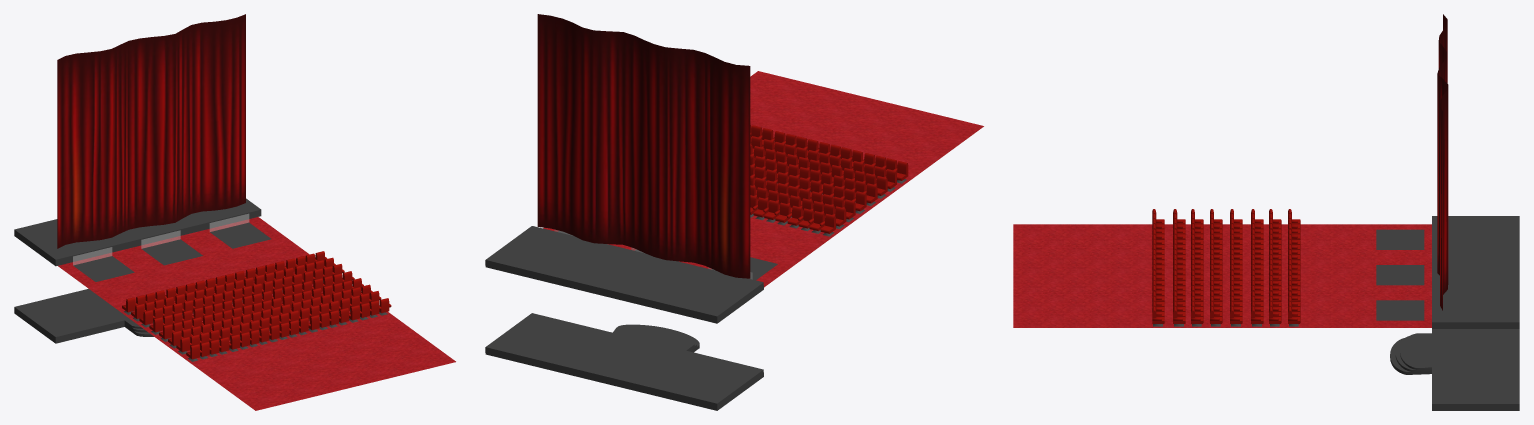
File: world.glb
3 renders of one model, left to right at view 1: azimuth 30°, elevation 25°; view 2: azimuth 150°, elevation 25°; view 3: azimuth 270°, elevation 25°, orthographic. The views are drawn at different scales.
Visible parts, largest first — view 1: Curtains, Plane, NoShadow1, NoShadow1.001, Plateforme3, Plateforme2, Plateforme1; view 2: Curtains, Plane, NoShadow1.001, NoShadow1; view 3: Plane, NoShadow1, NoShadow1.001, Curtains, Plateforme3, Plateforme2, Plateforme1.
Part boxes in pixels (x1,y1,x2,y2): Curtains: (57, 14, 245, 248); Plane: (58, 217, 455, 410); NoShadow1: (14, 198, 261, 266); NoShadow1.001: (14, 289, 153, 343); Plateforme3: (210, 222, 271, 248); Plateforme2: (142, 239, 202, 265); Plateforme1: (73, 256, 134, 281); Curtains: (537, 14, 750, 278); Plane: (543, 71, 983, 287); NoShadow1.001: (485, 313, 763, 410); NoShadow1: (485, 226, 763, 323); Plane: (1013, 224, 1431, 327); NoShadow1: (1432, 216, 1519, 328); NoShadow1.001: (1390, 329, 1519, 410); Curtains: (1437, 14, 1448, 310); Plateforme3: (1376, 300, 1424, 320); Plateforme2: (1376, 265, 1424, 285); Plateforme1: (1376, 229, 1424, 249).
Size of what is drawn, in the model's own units: 66.78 by 86.28 by 135.
Materials: 16 (2 with a texture image).
